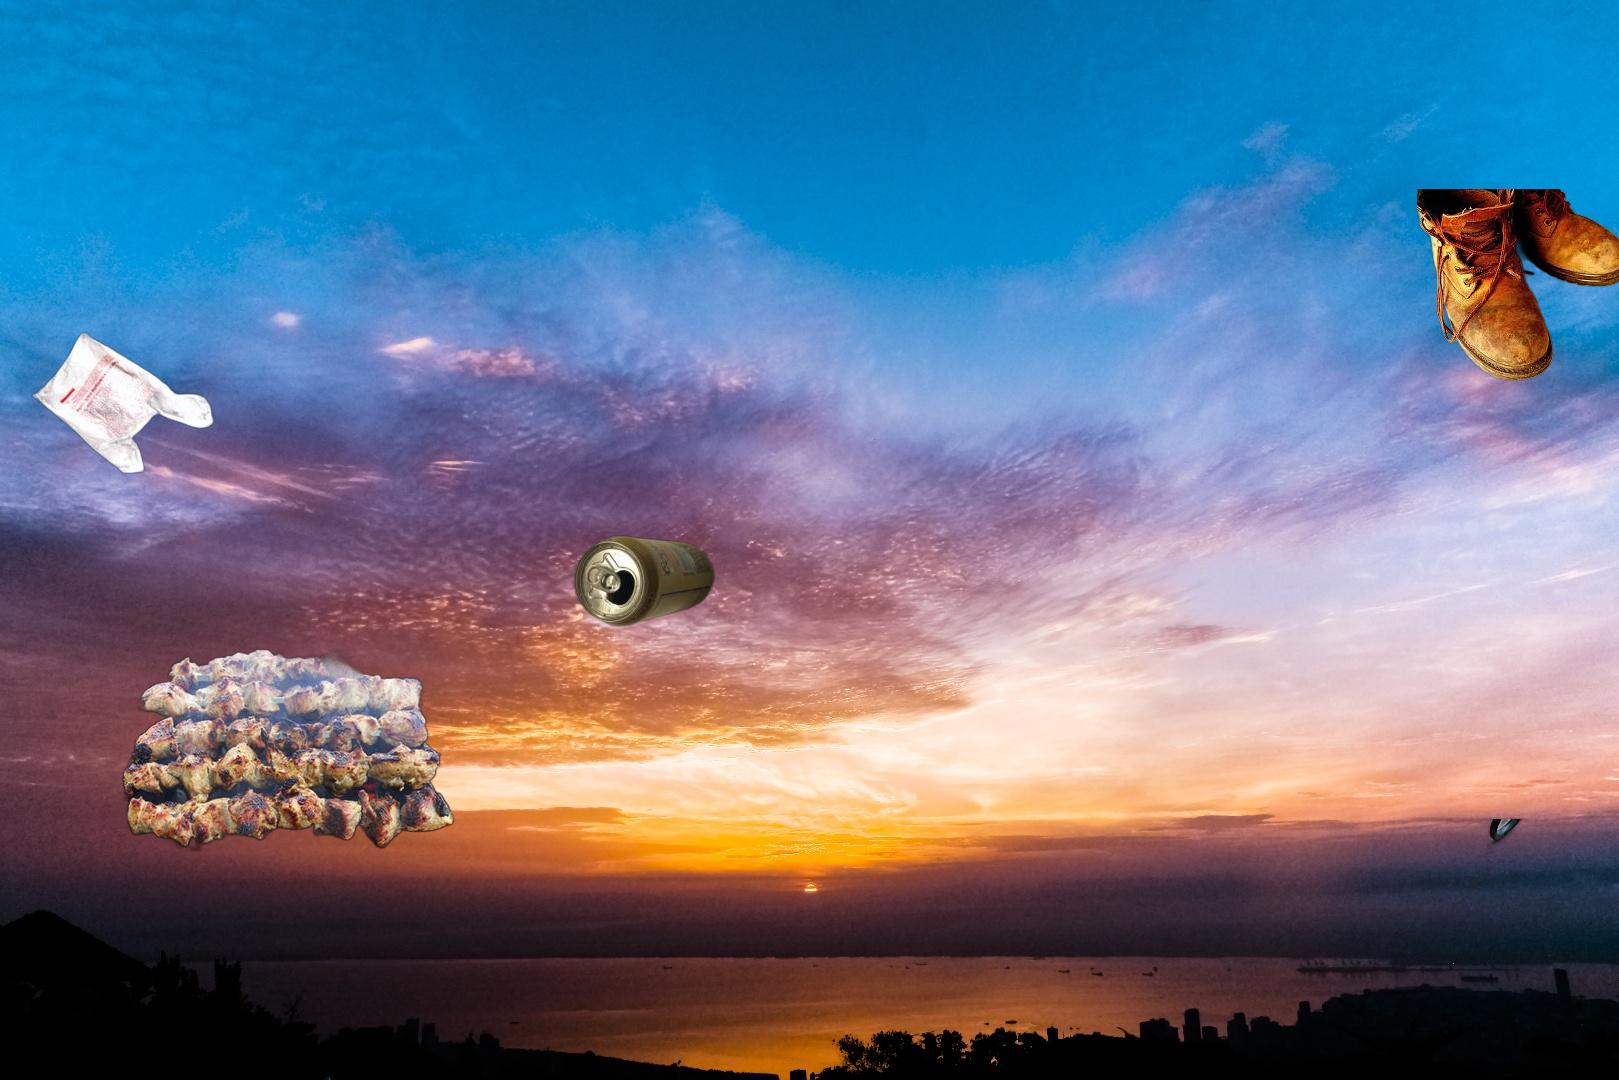biological: (116, 626, 467, 853)
glass: (1253, 818, 1525, 1080)
metal-cans: (570, 532, 718, 630)
plastic-bag: (29, 329, 217, 479)
shoes: (1416, 189, 1619, 385)
